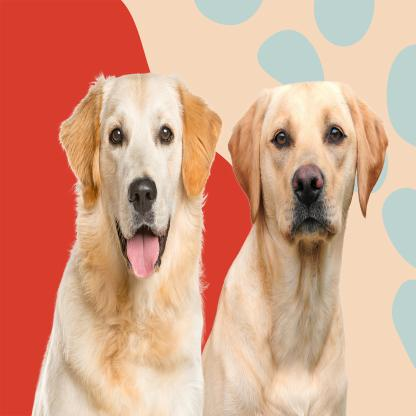dog: (32, 74, 221, 416), (200, 81, 387, 415)
